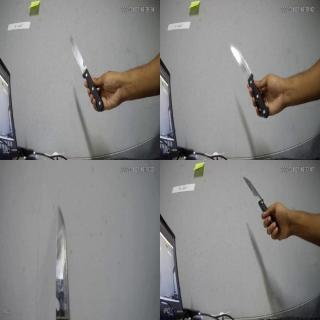knife: (226, 42, 268, 118), (66, 32, 104, 113), (53, 199, 71, 319), (243, 177, 279, 231)
